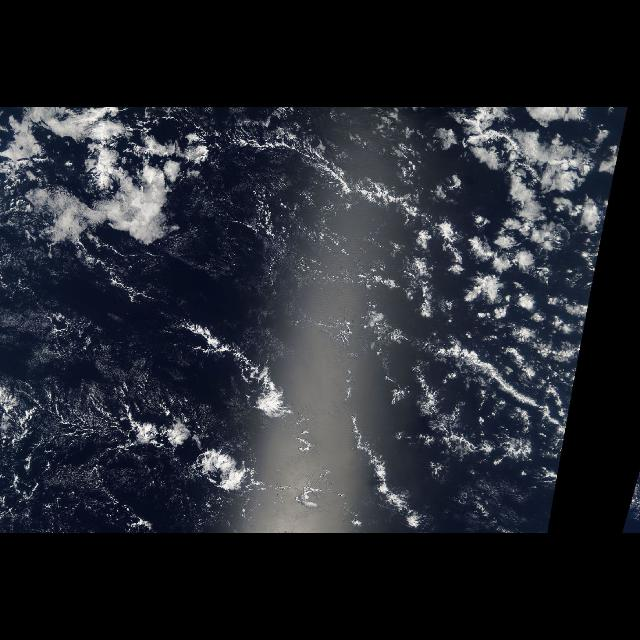Flower: (433, 108, 622, 352)
Sugar: (34, 358, 196, 470)
